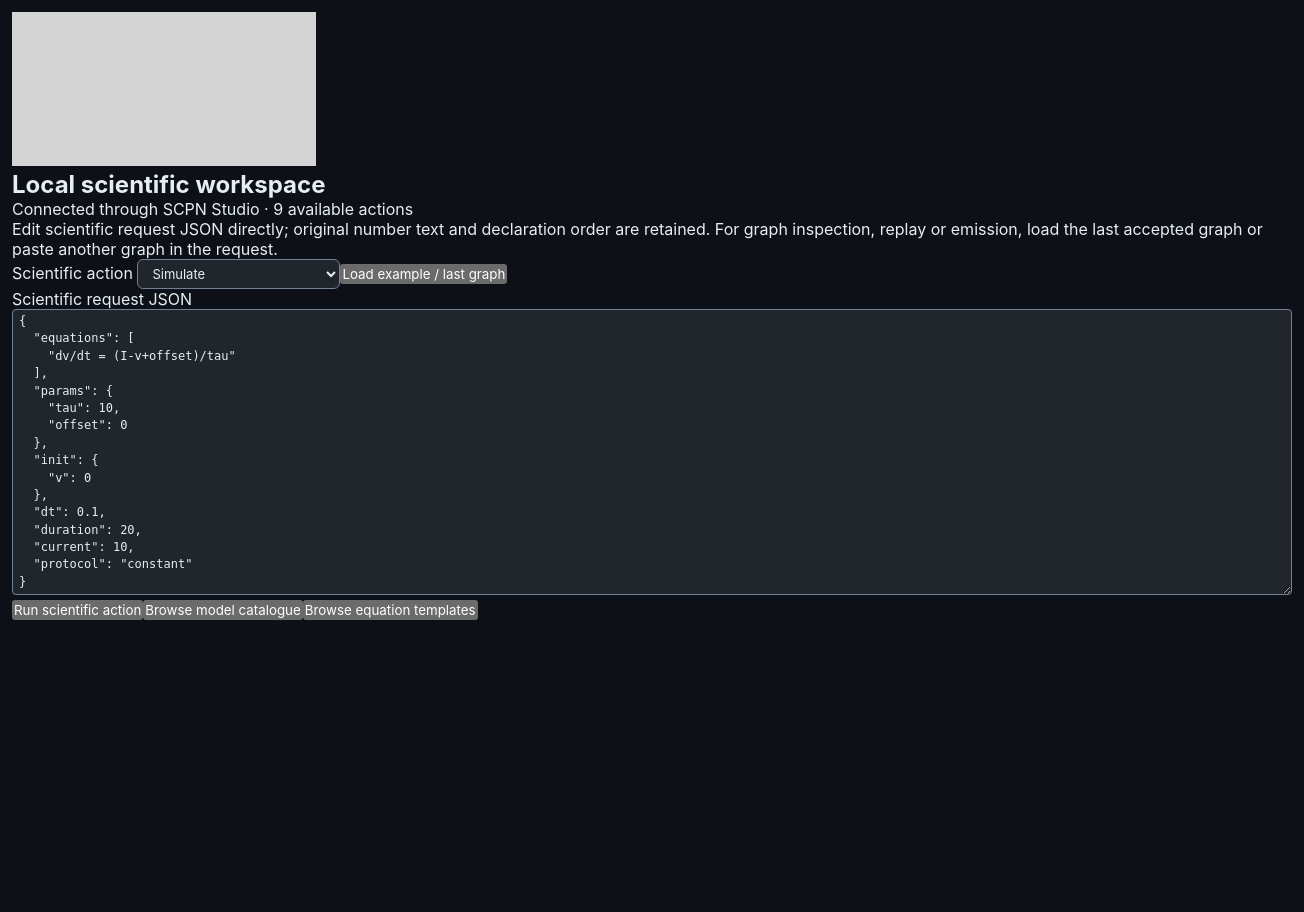
Test: keeps an active job visible, polls explicitly, cancels, and permits a new action only after settlement
This screenshot has width=1304, height=912.
Click the button "Run scientific action" at (78, 610), box [12,600,143,620]
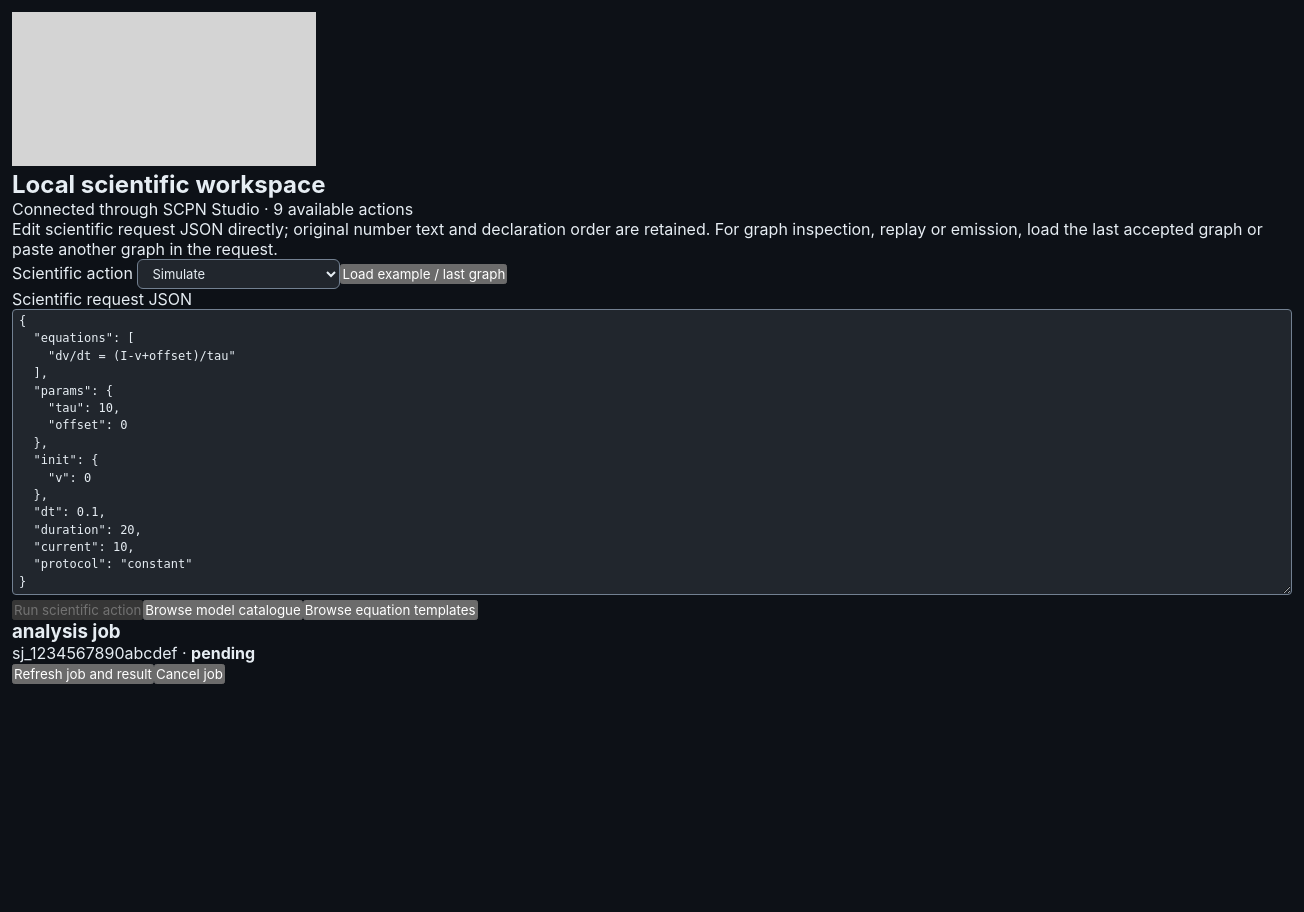
Check: the button "Run scientific action" is disabled, box [12,600,143,620]
Check: the element named "Current scientific job" shows "pending", box [191,643,255,663]
Check: the button "Refresh job and result" is enabled
Click the button "Refresh job and result" at (83, 674), box [12,664,154,684]
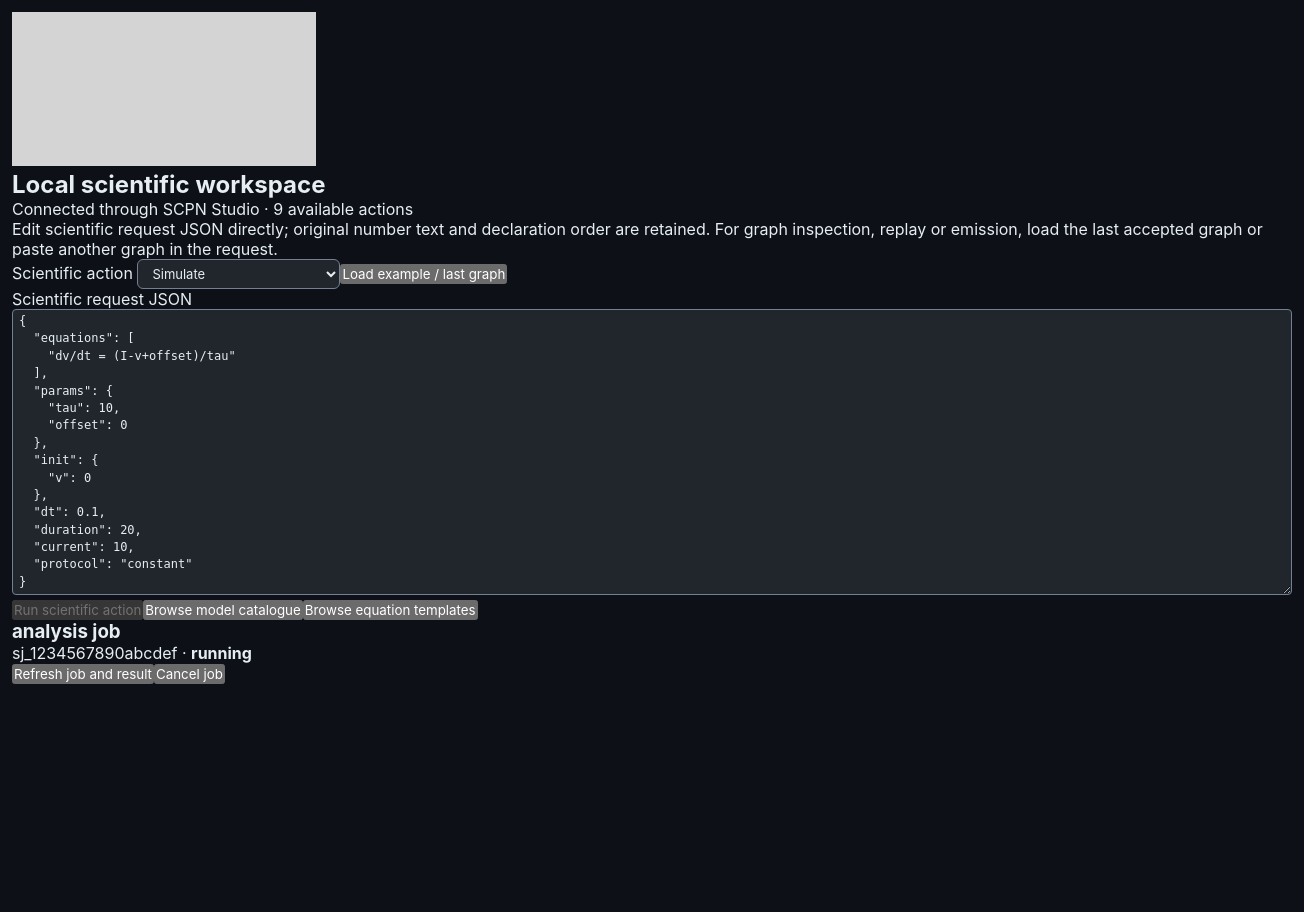
Check: the button "Cancel job" is enabled
Check: the element named "Current scientific job" shows "running", box [191,643,252,663]
Click the button "Cancel job" at (189, 674), box [154,664,225,684]
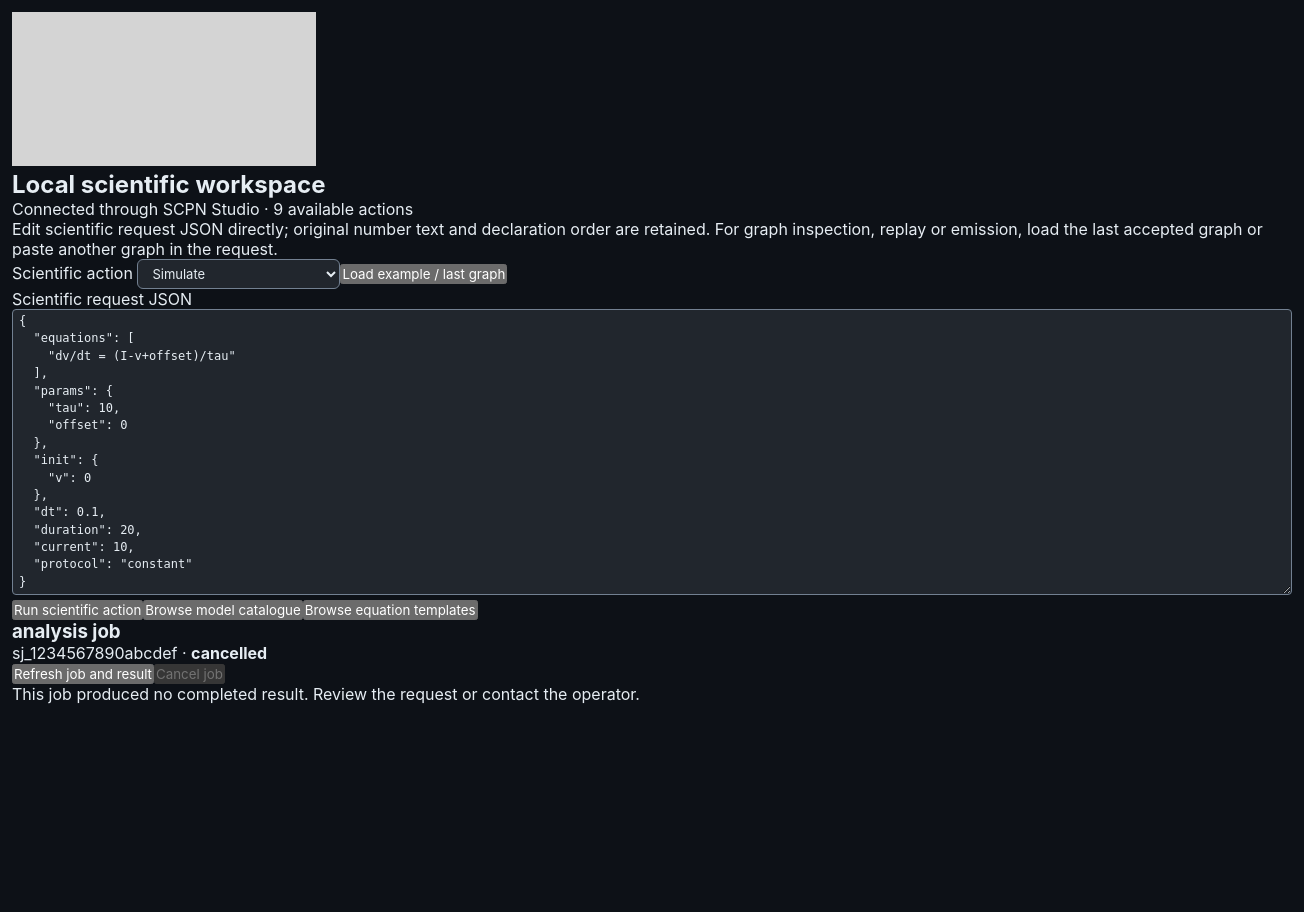
Check: the button "Cancel job" is disabled, box [154,664,225,684]
Check: the button "Run scientific action" is enabled, box [12,600,143,620]
Check: the text "This job produced no completed result" is shown, box [12,684,640,704]
